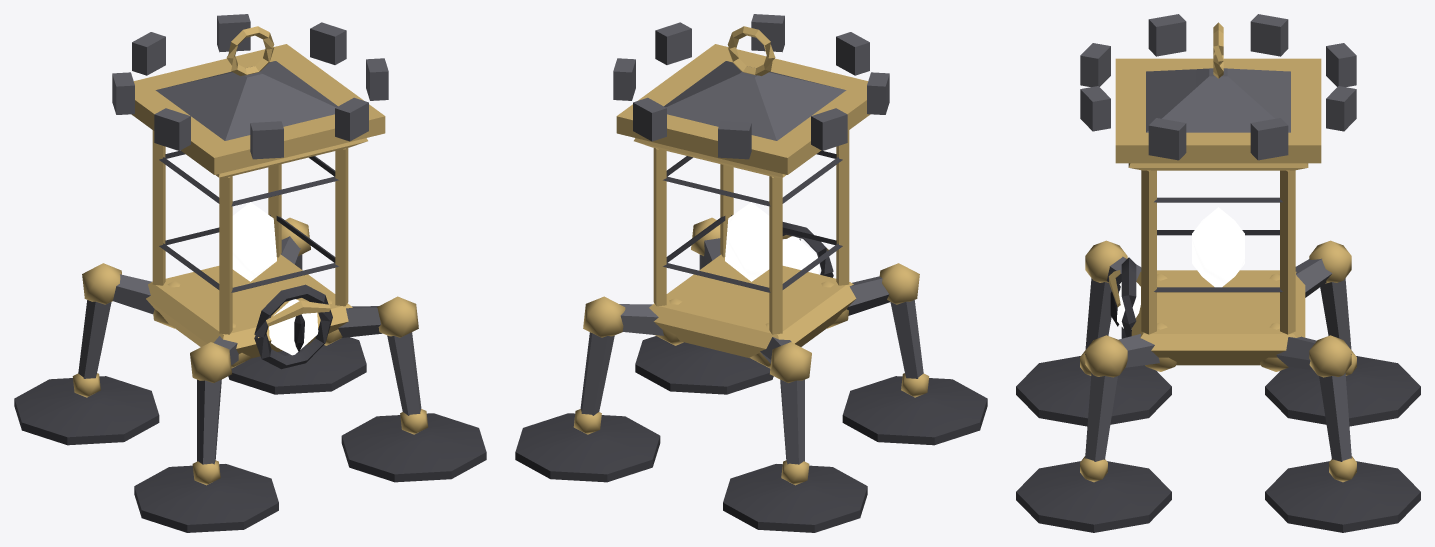
The model's file is lantern-ward-lamp.glb.
3 renders of one model, left to right at view 1: azimuth 30°, elevation 25°; view 2: azimuth 150°, elevation 25°; view 3: azimuth 270°, elevation 25°, orthographic. The views are drawn at different scales.
Visible parts, largest first — view 1: lantern_ward_lamp; view 2: lantern_ward_lamp; view 3: lantern_ward_lamp.
Part boxes in pixels (left/top/right/bottom): lantern_ward_lamp: left=14, top=14, right=486, bottom=532; lantern_ward_lamp: left=515, top=14, right=987, bottom=532; lantern_ward_lamp: left=1016, top=14, right=1420, bottom=532.
Bounding box in the file's own units: 0.7045 × 0.8087 × 0.7045.
